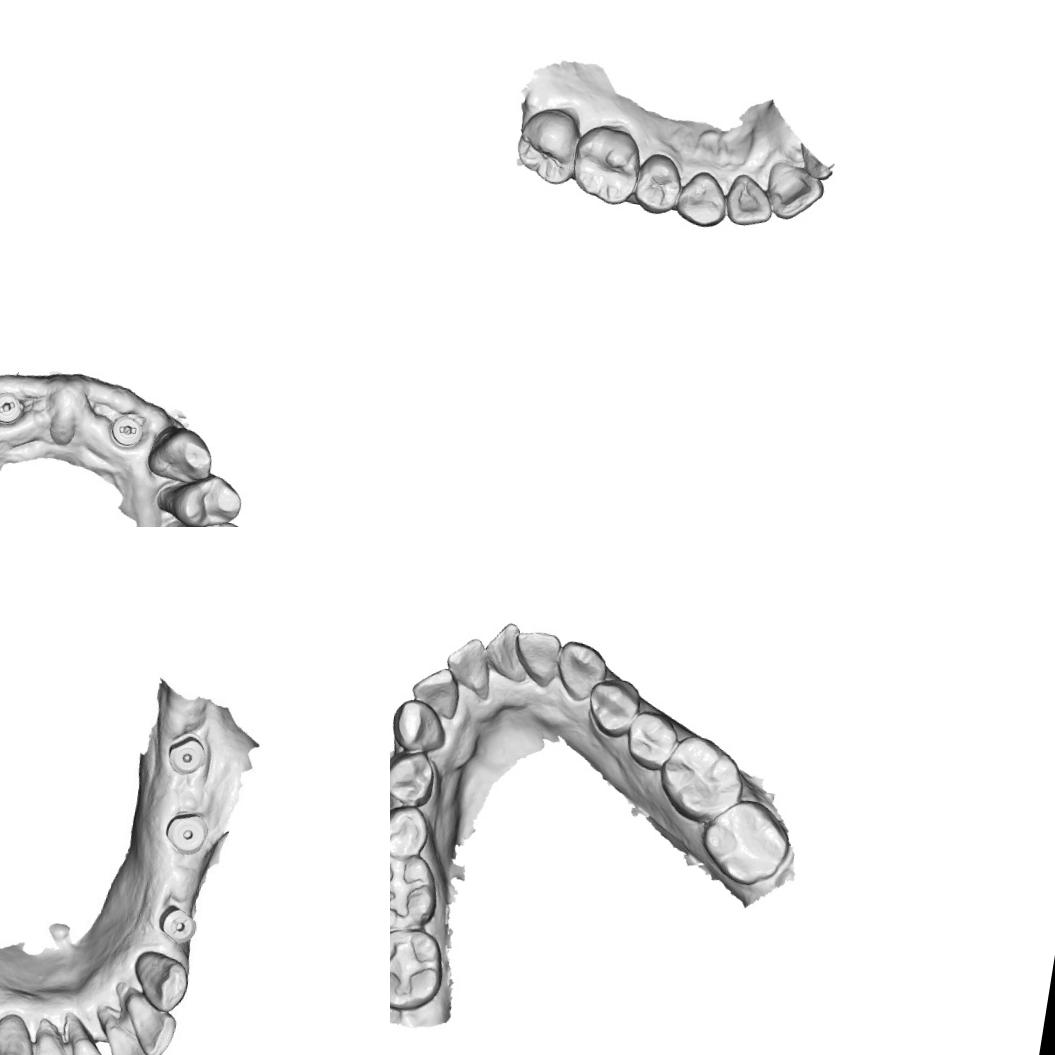canine: (143, 419, 221, 487), (130, 948, 195, 1012), (390, 695, 456, 757), (552, 639, 611, 708), (0, 1016, 39, 1055)
implant: (159, 809, 211, 856), (163, 730, 210, 777)
implant_minus: (106, 408, 148, 451), (0, 388, 26, 427)
implant_plus: (153, 901, 203, 947)
incisor: (760, 158, 828, 225), (117, 991, 181, 1055), (440, 632, 500, 700), (479, 616, 535, 686), (509, 625, 566, 692), (407, 662, 469, 723), (722, 170, 778, 230), (94, 1014, 160, 1055), (27, 1017, 81, 1055), (63, 1026, 128, 1055)
molar: (652, 728, 754, 832), (696, 792, 800, 892), (567, 121, 646, 209), (511, 103, 585, 189), (390, 919, 451, 1019), (390, 845, 445, 939)
premolar: (167, 467, 247, 527), (583, 673, 647, 744), (620, 706, 682, 774), (630, 150, 686, 218), (674, 167, 732, 231), (390, 744, 442, 811), (390, 800, 436, 863), (172, 513, 252, 527)
